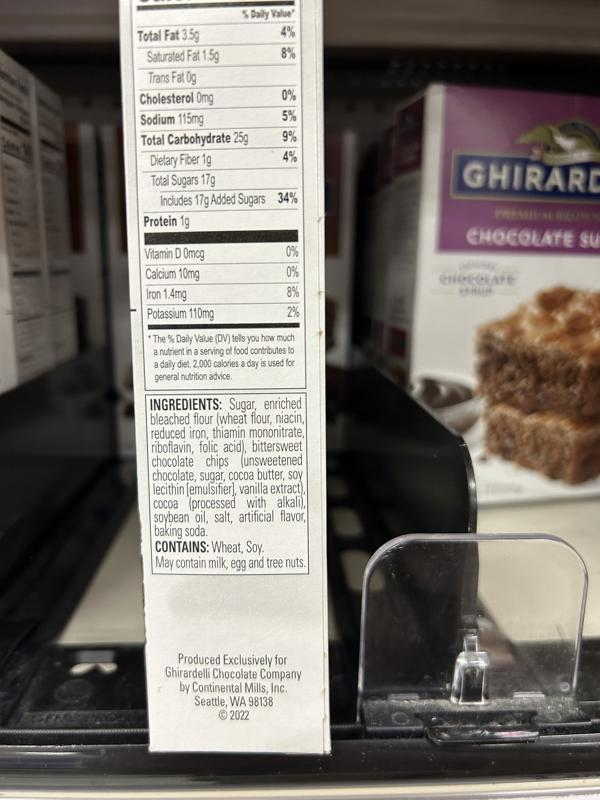ingredients: (147, 397, 307, 539)
